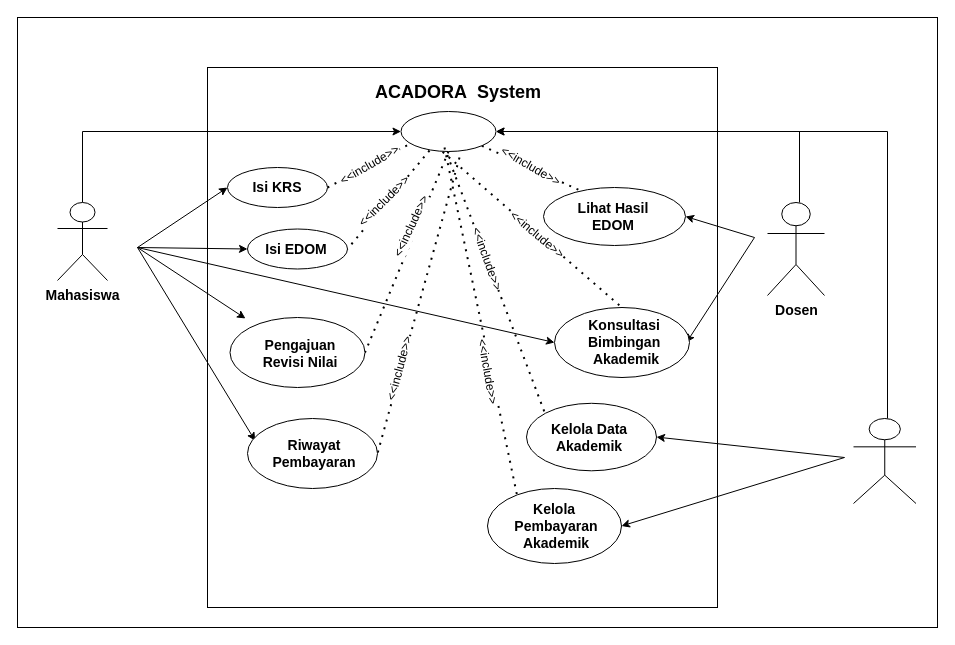
Some shapes in this 955 by 645 pixel diagram are drawn without their labels. The centre of each missing label's shape, as x and y in pixels:
Admin: point (884, 461)
Login: point (448, 131)
